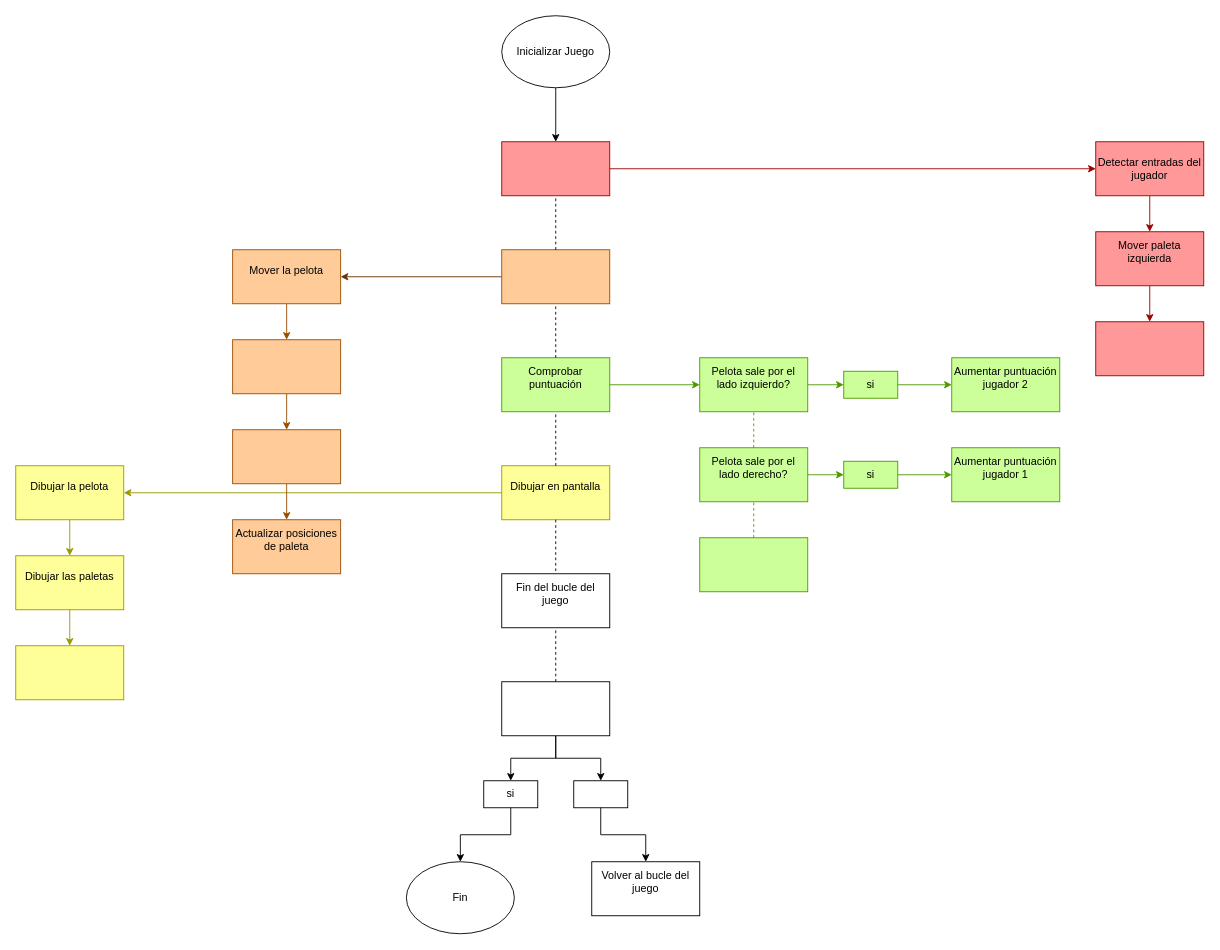
This 1220x950 diagram has some shape labels left out. The centre of each missing label's shape, as x and y in pixels:
"Actualizar posiciones" goes at (x=555, y=276).
"Bucle del juego" goes at (x=555, y=168).
"Comprobar colisiones con paletas" goes at (x=286, y=456).
"Comprobar colisiones con paredes" goes at (x=286, y=366).
"Condición de fin del juego?" goes at (x=555, y=708).
"Dibujar la puntuación" goes at (x=69, y=672).
"Mover paleta derecha" goes at (x=1149, y=348).
"no" goes at (x=600, y=794).
"Reiniciar posición de la pelota" goes at (x=753, y=564).
